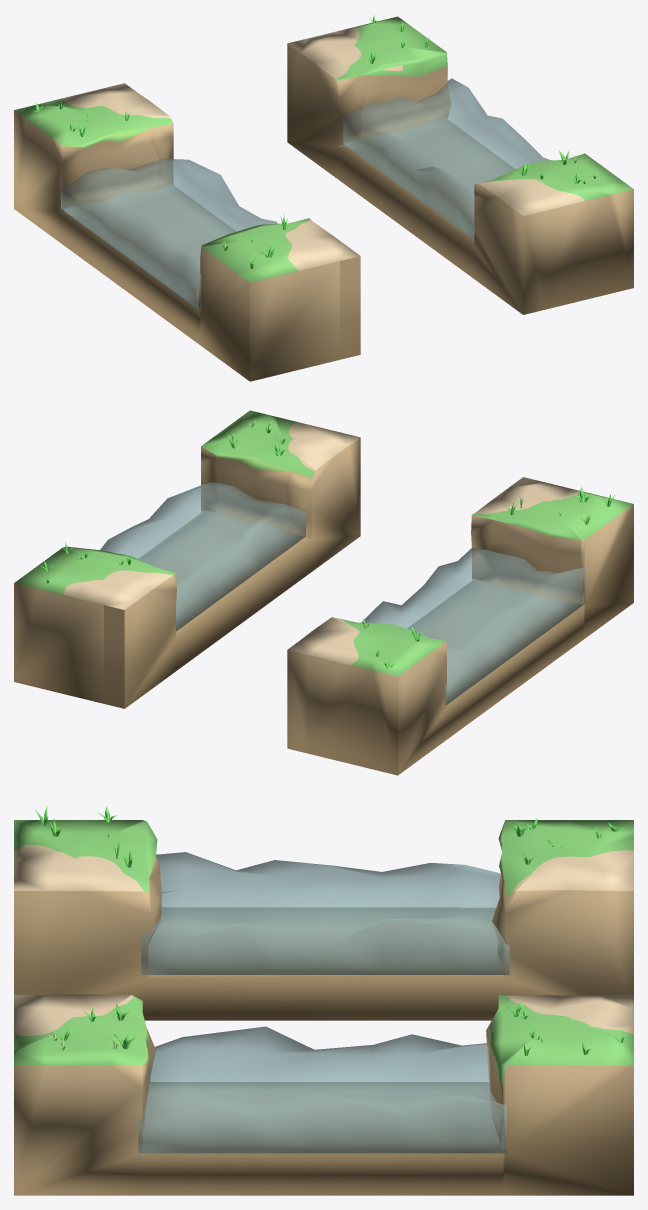
File: ground_side.fbx
The picture shows the model from 3 angles, top to bottom: view 1: azimuth 30°, elevation 25°; view 2: azimuth 150°, elevation 25°; view 3: azimuth 270°, elevation 25°; orthographic projection. The views are drawn at different scales.
Visible parts, largest first — view 1: baseright, baseleft, river2, river; view 2: baseleft, baseright, river, river2; view 3: baseleft, baseright, river2, river.
Part boxes in pixels (box(x1,y1,x2,y2)): baseright: box(14, 83, 360, 381); baseleft: box(287, 16, 633, 314); river2: box(343, 78, 551, 238); river: box(61, 158, 277, 310); baseleft: box(14, 410, 360, 708); baseright: box(287, 477, 633, 775); river: box(361, 548, 585, 705); river2: box(100, 482, 306, 631); baseleft: box(14, 994, 633, 1195); baseright: box(14, 820, 633, 1020); river2: box(138, 1026, 506, 1153); river: box(141, 852, 509, 974).
Bounding box in the file's own units: 13.47 × 3.99 × 14.08.
6 materials, 4 textured.
